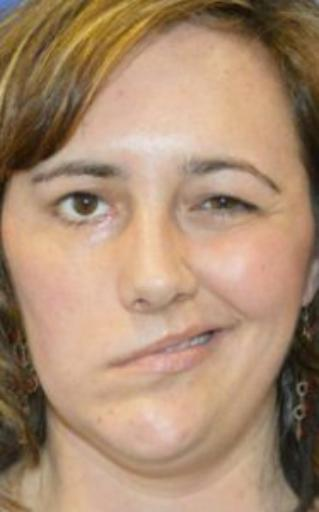left_eye: (188, 198, 263, 226)
left_lip_corner: (217, 320, 239, 342)
right_eye: (44, 191, 119, 232)
right_lip_corner: (101, 356, 121, 378)
